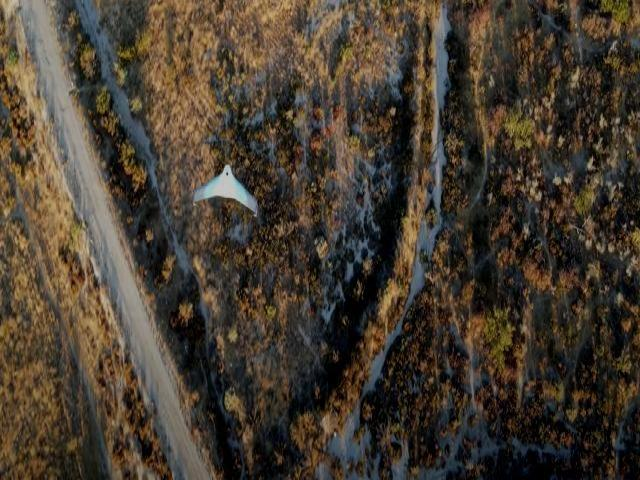iha: (189, 161, 259, 216)
